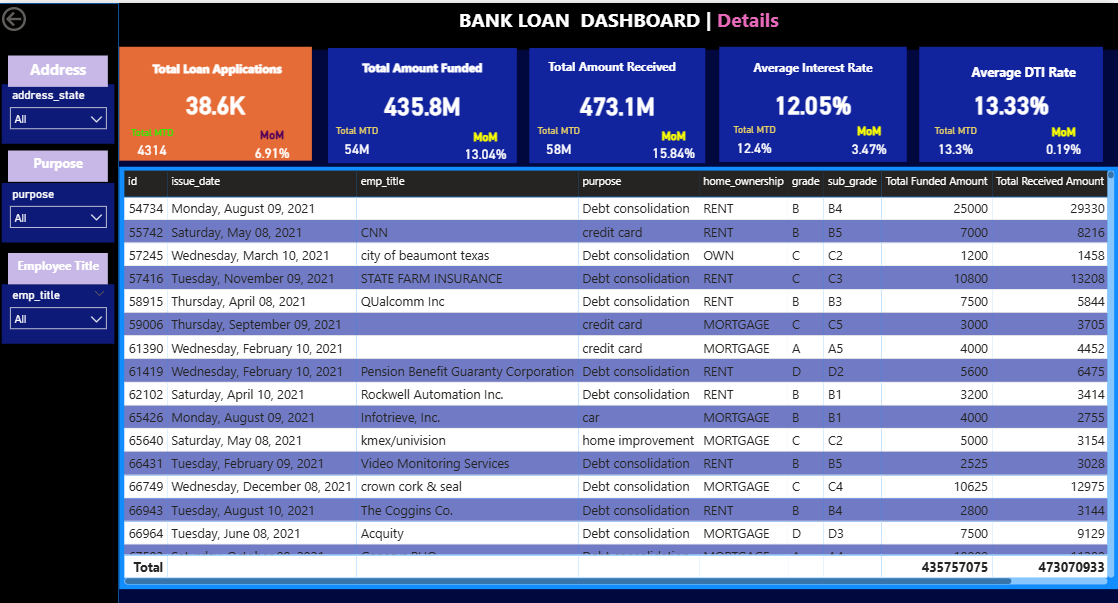

Layout of this report page (visuals, bound fields, positions):
{"tool":"powerbi","page":{"name":"Details","canvas":[1400,750],"ordinal":2},"visuals":[{"type":"textbox","box":[151.2,0,1249,58.7],"z":0},{"type":"shape","box":[0,0,151.2,1000],"z":1000},{"type":"card","fields":{"Values":["financial_loan_full.Total Loan Applications"]},"box":[151.6,54.7,240.6,142.2],"z":2000},{"type":"textbox","box":[166.5,67.6,213.5,36.2],"z":3000},{"type":"card","title":"Total MTD ","fields":{"Values":["financial_loan_full.MTD Loan Applictions"]},"box":[150.8,154.4,82,47.1],"z":4000},{"type":"card","title":"MoM","fields":{"Values":["financial_loan_full.MOM Loan Applications"]},"box":[294.4,155.6,97.7,47.1],"z":5000},{"type":"card","fields":{"Values":["financial_loan_full.Total Funded Amount"]},"box":[412.5,56.2,235.9,143.8],"z":6000},{"type":"textbox","box":[423.4,65.6,214.1,40.6],"z":7000},{"type":"card","title":"Total MTD ","fields":{"Values":["financial_loan_full.MTD Funded Amount"]},"box":[410.9,153.1,75,46.9],"z":8000},{"type":"card","title":"MoM","fields":{"Values":["financial_loan_full.MOM Funded Amount"]},"box":[570.3,159.4,78.1,43.8],"z":9000},{"type":"card","fields":{"Values":["financial_loan_full.Total Received Amount"]},"box":[664.1,56.2,220.3,143.8],"z":10000},{"type":"textbox","box":[682.8,64.1,184.4,40.6],"z":11000},{"type":"card","title":"Total MTD ","fields":{"Values":["financial_loan_full.MTD Received Amount"]},"box":[664.1,153.1,73.4,46.9],"z":12000},{"type":"card","title":"MoM","fields":{"Values":["financial_loan_full.MOM Received Amount"]},"box":[804.7,157.8,79.7,43.8],"z":13000},{"type":"card","fields":{"Values":["financial_loan_full.Average Intrest Rate"]},"box":[901.6,54.7,234.4,143.8],"z":14000},{"type":"textbox","box":[923.4,65.6,190.6,40.6],"z":15000},{"type":"card","title":"Total MTD ","fields":{"Values":["financial_loan_full.MTD Average Interest Rate"]},"box":[901.6,151.6,87.5,48.4],"z":16000},{"type":"card","title":"MoM","fields":{"Values":["financial_loan_full.MOM Average Interest Rate"]},"box":[1042.2,151.6,93.8,48.4],"z":17000},{"type":"card","fields":{"Values":["financial_loan_full.Average DTI"]},"box":[1151.6,54.7,229.7,143.8],"z":18000},{"type":"textbox","box":[1182.8,70.3,198.4,34.4],"z":19000},{"type":"card","title":"Total MTD ","fields":{"Values":["financial_loan_full.MTD Average DTI"]},"box":[1151.6,153.1,90.6,46.9],"z":20000},{"type":"card","title":"MoM","fields":{"Values":["financial_loan_full.MOM Average DTI Rate"]},"box":[1282.8,153.1,98.4,43.8],"z":21000},{"type":"slicer","fields":{"Values":["financial_loan_full.address_state"]},"box":[5.2,101.7,140.8,74.3],"z":22000},{"type":"textbox","box":[13,65.2,125.2,39.1],"z":23000},{"type":"slicer","fields":{"Values":["financial_loan_full.purpose"]},"box":[5.2,224.3,140.8,74.3],"z":24000},{"type":"actionButton","box":[0,0,100,40],"z":25000},{"type":"textbox","box":[13,185.1,125.2,39.1],"z":26000},{"type":"slicer","fields":{"Values":["financial_loan_full.emp_title"]},"box":[5.2,352,140.8,74.3],"z":27000},{"type":"textbox","box":[13,312.9,125.2,39.1],"z":28000},{"type":"tableEx","fields":{"Values":["financial_loan_full.id","financial_loan_full.issue_date","financial_loan_full.emp_title","financial_loan_full.purpose","financial_loan_full.home_ownership","financial_loan_full.grade","financial_loan_full.sub_grade","financial_loan_full.Total Funded Amount","financial_loan_full.Total Received Amount","financial_loan_full.Average Intrest Rate"]},"box":[151.3,204.8,1248.9,527.8],"z":29000}]}

Visuals, with their boxes in screenshot pixels (x1, y1, x2, y2), scaled from the page's 1400x750 canvas onto the 1118x603 screenshot:
textbox: 121,0,1117,47
shape: 0,0,121,602
card - financial_loan_full.Total Loan Applications: 121,44,313,158
textbox: 133,54,303,83
"Total MTD " card: 120,124,186,162
"MoM" card: 235,125,313,163
card - financial_loan_full.Total Funded Amount: 329,45,518,161
textbox: 338,53,509,85
"Total MTD " card: 328,123,388,161
"MoM" card: 455,128,518,163
card - financial_loan_full.Total Received Amount: 530,45,706,161
textbox: 545,52,693,84
"Total MTD " card: 530,123,589,161
"MoM" card: 643,127,706,162
card - financial_loan_full.Average Intrest Rate: 720,44,907,160
textbox: 737,53,890,85
"Total MTD " card: 720,122,790,161
"MoM" card: 832,122,907,161
card - financial_loan_full.Average DTI: 920,44,1103,160
textbox: 945,57,1103,84
"Total MTD " card: 920,123,992,161
"MoM" card: 1024,123,1103,158
slicer - financial_loan_full.address_state: 4,82,117,142
textbox: 10,52,110,84
slicer - financial_loan_full.purpose: 4,180,117,240
actionButton: 0,0,80,32
textbox: 10,149,110,180
slicer - financial_loan_full.emp_title: 4,283,117,343
textbox: 10,252,110,283
tableEx - financial_loan_full.id x financial_loan_full.issue_date: 121,165,1117,589
